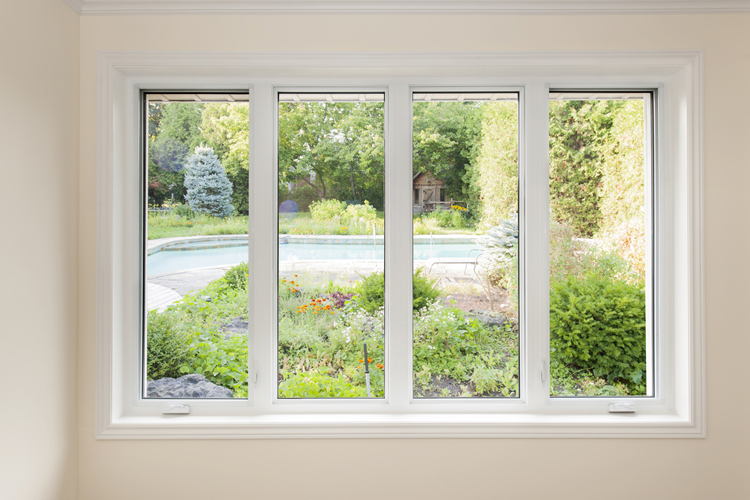Window: (129, 79, 677, 414)
